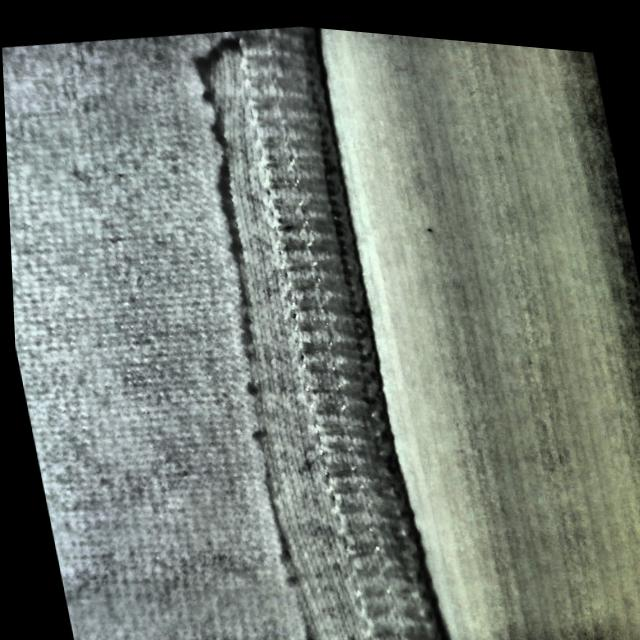seam: (140, 15, 435, 640)
